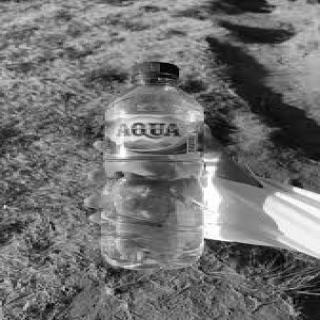plastic_bottles: (99, 63, 208, 269)
